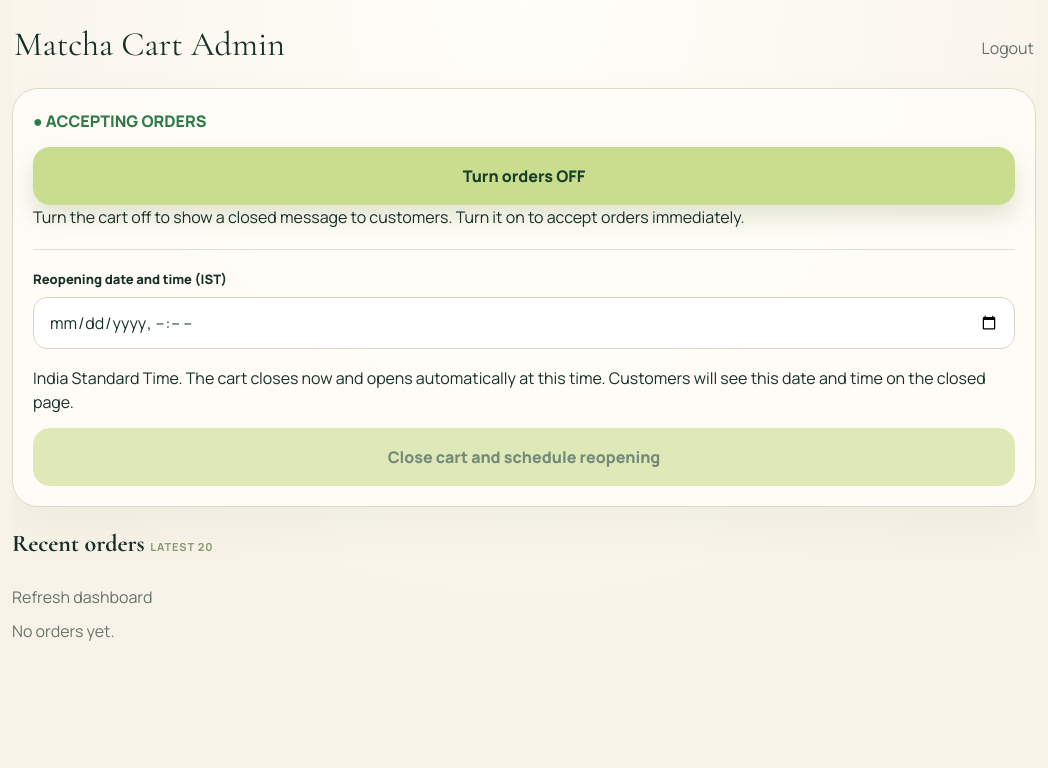
Test case: admin dashboard › asks for login when the session expires during an update
Step 1. Click the button "Turn orders OFF" → (524, 176), box x1=33 y1=147 x2=1015 y2=205
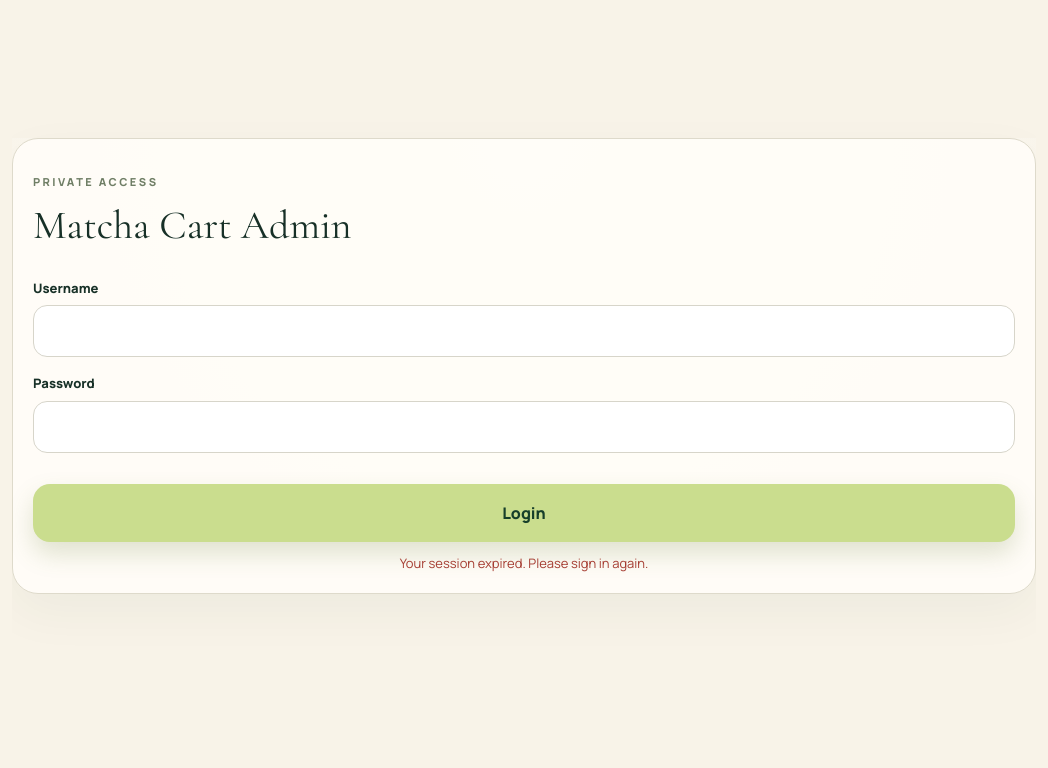
Now the password field labelled "Password" is shown, box x1=33 y1=401 x2=1015 y2=453
Now the text "Your session expired. Please sign in again." is shown, box x1=400 y1=554 x2=648 y2=572
